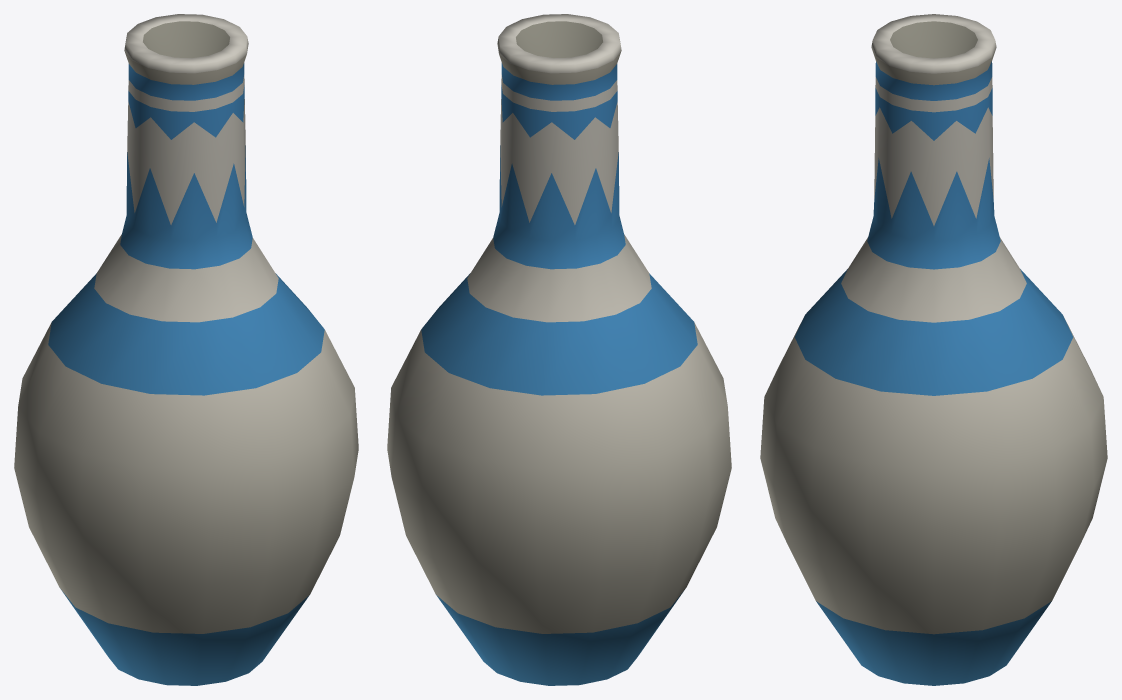
File: furnishings-indoor-vase_v4.glb
The picture shows the model from 3 angles, left to right: view 1: azimuth 30°, elevation 25°; view 2: azimuth 150°, elevation 25°; view 3: azimuth 270°, elevation 25°; orthographic projection.
Parts seen in each view (by area): view 1: Vase_v4; view 2: Vase_v4; view 3: Vase_v4.
Part boxes in pixels (<box>): Vase_v4: <box>14,14,358,685</box>; Vase_v4: <box>387,14,731,685</box>; Vase_v4: <box>760,14,1107,685</box>.
Bounding box in the file's own units: 0.3884 × 0.7561 × 0.3884.
